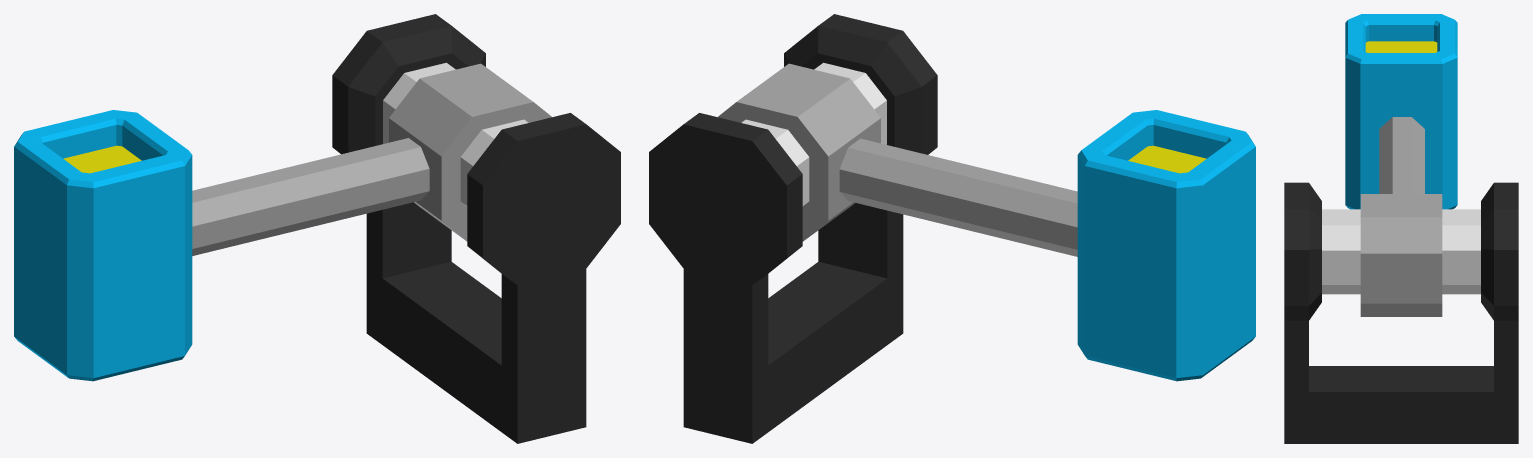
3 renders of one model, left to right at view 1: azimuth 30°, elevation 25°; view 2: azimuth 150°, elevation 25°; view 3: azimuth 270°, elevation 25°, orthographic. The views are drawn at different scales.
Visible parts, largest first — view 1: pCube107, pCube114; view 2: pCube107, pCube114; view 3: pCube114, pCube107.
Boxes of the visible parts, x1,y1,x2,y2 form: pCube107: [14, 63, 551, 381]; pCube114: [332, 14, 620, 443]; pCube107: [718, 63, 1255, 381]; pCube114: [649, 14, 937, 443]; pCube114: [1284, 182, 1518, 443]; pCube107: [1345, 14, 1457, 316].
Size of the model in its own units: 319 by 196 by 165.
